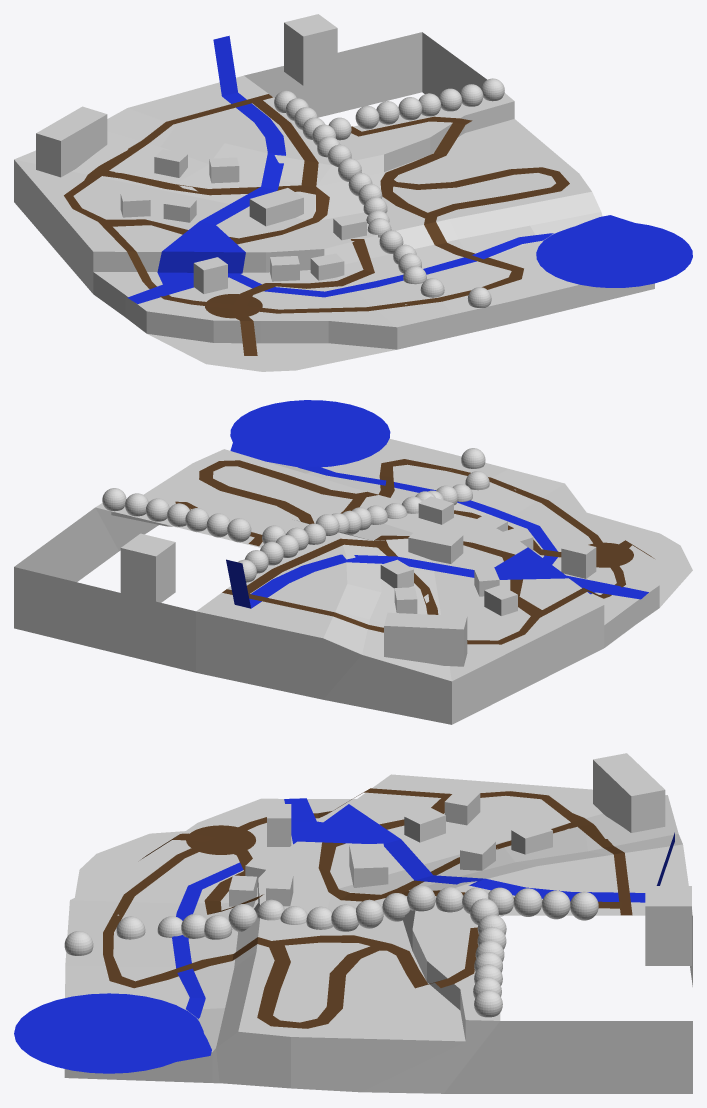
File: TownTopologyTest.fbx
3 views of the same model, one above another, from view 1: azimuth 30°, elevation 25°; view 2: azimuth 150°, elevation 25°; view 3: azimuth 270°, elevation 25° (orthographic). The views are drawn at different scales.
Parts seen in each view (by area): view 1: TERRAIN, Plane.003, Circle.001, Plane.001, Plane, Cube.003, Cube, Plane.002, Cube.006, Sphere.003, Cube.001, Cube.004 (+7 smaller); view 2: TERRAIN, Circle.001, Plane.003, Plane.001, Cube.003, Plane, Cube, Plane.002, Cube.006, Sphere.003, Cube.001, Cube.007 (+4 smaller); view 3: TERRAIN, Circle.001, Plane.003, Plane, Plane.001, Cube.003, Cube, Sphere.003, Plane.002, Cube.006, Cube.008, Cube.004 (+19 smaller).
Boxes of the visible parts, box(x1,y1,x2,y2) form: TERRAIN: box(14, 32, 654, 371); Plane.003: box(64, 94, 470, 355); Circle.001: box(536, 215, 692, 287); Plane.001: box(127, 35, 285, 303); Plane: box(351, 116, 569, 289); Cube.003: box(36, 106, 107, 177); Cube: box(284, 14, 337, 85); Plane.002: box(228, 233, 553, 297); Cube.006: box(249, 188, 303, 226); Sphere.003: box(274, 90, 325, 139); Cube.001: box(193, 257, 227, 293); Cube.004: box(154, 149, 187, 177); TERRAIN: box(14, 439, 692, 724); Circle.001: box(230, 400, 390, 467); Plane.003: box(222, 469, 654, 644); Plane.001: box(226, 547, 648, 608); Cube.003: box(384, 612, 467, 666); Plane: box(175, 459, 453, 546); Cube: box(120, 533, 175, 602); Plane.002: box(297, 466, 557, 564); Cube.006: box(408, 526, 463, 563); Sphere.003: box(237, 535, 298, 582); Cube.001: box(561, 541, 596, 578); Cube.007: box(484, 585, 517, 616); TERRAIN: box(64, 774, 692, 1093); Circle.001: box(14, 993, 211, 1073); Plane.003: box(103, 788, 632, 955); Plane: box(103, 927, 478, 1028); Plane.001: box(284, 798, 674, 902); Cube.003: box(593, 753, 665, 832); Cube: box(645, 886, 691, 965); Sphere.003: box(488, 887, 598, 920); Plane.002: box(172, 862, 243, 1019); Cube.006: box(349, 843, 388, 887); Cube.008: box(404, 807, 445, 842); Cube.004: box(511, 822, 552, 854).
Size of the model in its own units: 19151 by 4354 by 19647.
